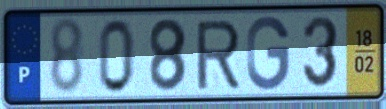0: (96, 16, 137, 97)
3: (299, 14, 340, 91)
8: (146, 16, 188, 94), (47, 15, 86, 98)
G: (244, 14, 293, 94)
R: (193, 17, 242, 92)
